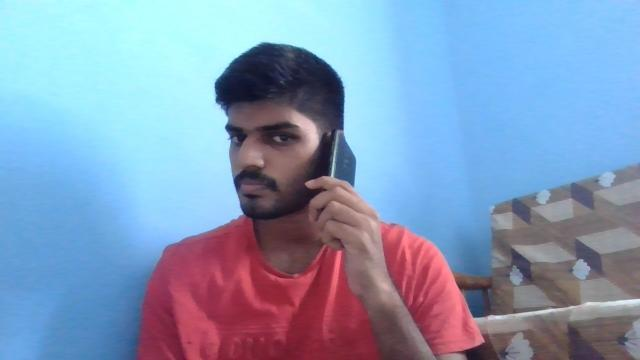PhoneUse: (332, 134, 356, 239)
SafeDriving: (260, 124, 306, 150), (219, 122, 253, 148)
